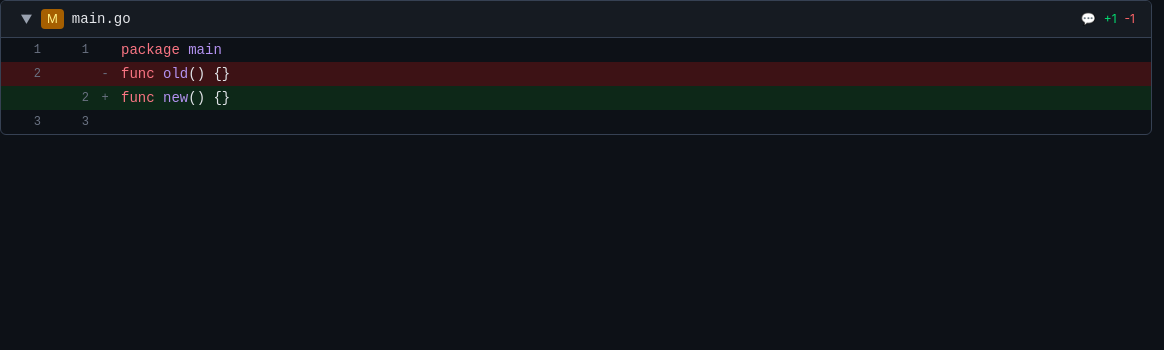
Test: DiffViewer › file-level comments › shows comment form when add file comment button is clicked
Step 1. Click the button named "Add file comment" → (1088, 19), box top-left (1081, 11), bottom-right (1096, 27)
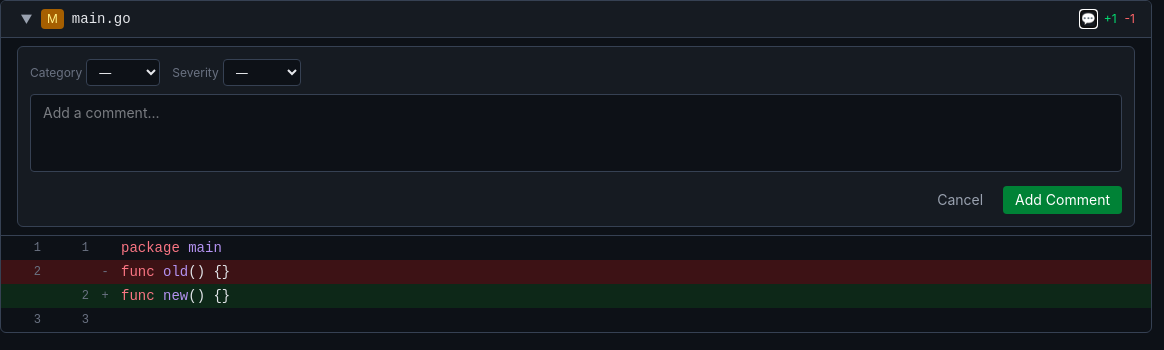
Expected: the text box with placeholder "Add a comment..." is shown, top-left (30, 94), bottom-right (1122, 172)
